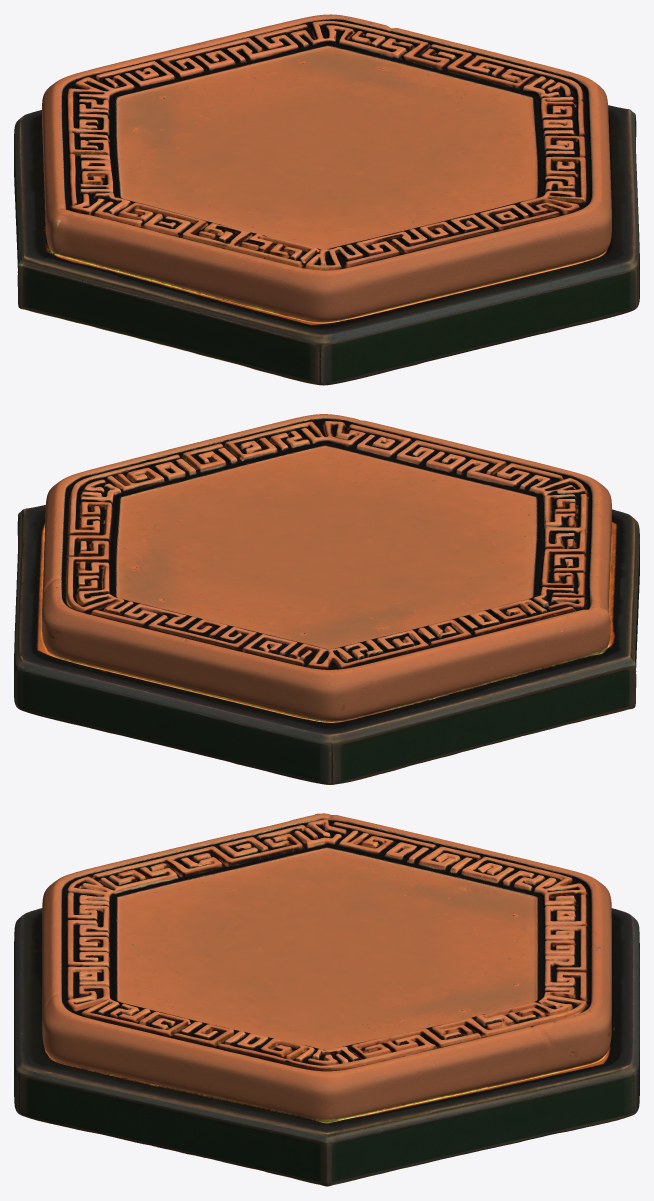
File: PotteryHexagon.fbx
3 views of the same model, one above another, from view 1: azimuth 30°, elevation 25°; view 2: azimuth 150°, elevation 25°; view 3: azimuth 270°, elevation 25° (orthographic).
Visible parts, largest first — view 1: Mesh_0; view 2: Mesh_0; view 3: Mesh_0.
Part boxes in pixels (x1=…): Mesh_0: x1=14, y1=14, x2=639, y2=385; Mesh_0: x1=14, y1=414, x2=639, y2=784; Mesh_0: x1=14, y1=813, x2=639, y2=1186.
Bounding box in the file's own units: 190 × 27.37 × 165.
Materials: 1 (1 with a texture image).
